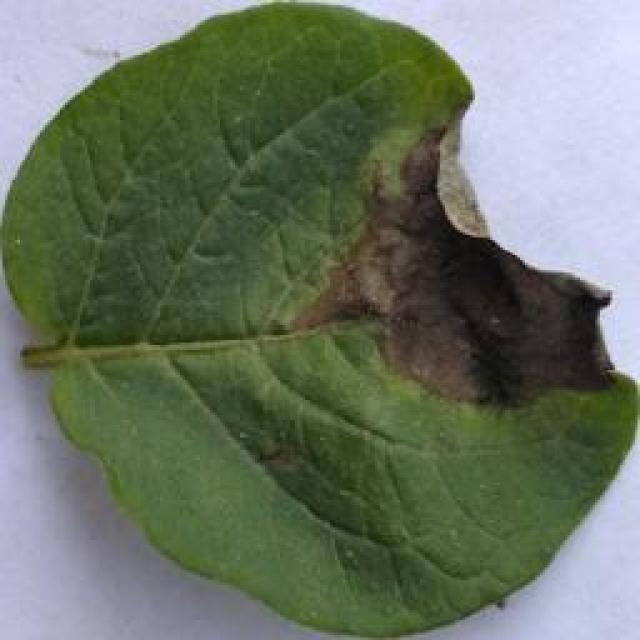Potato_Late_Blight: (4, 14, 630, 638)
